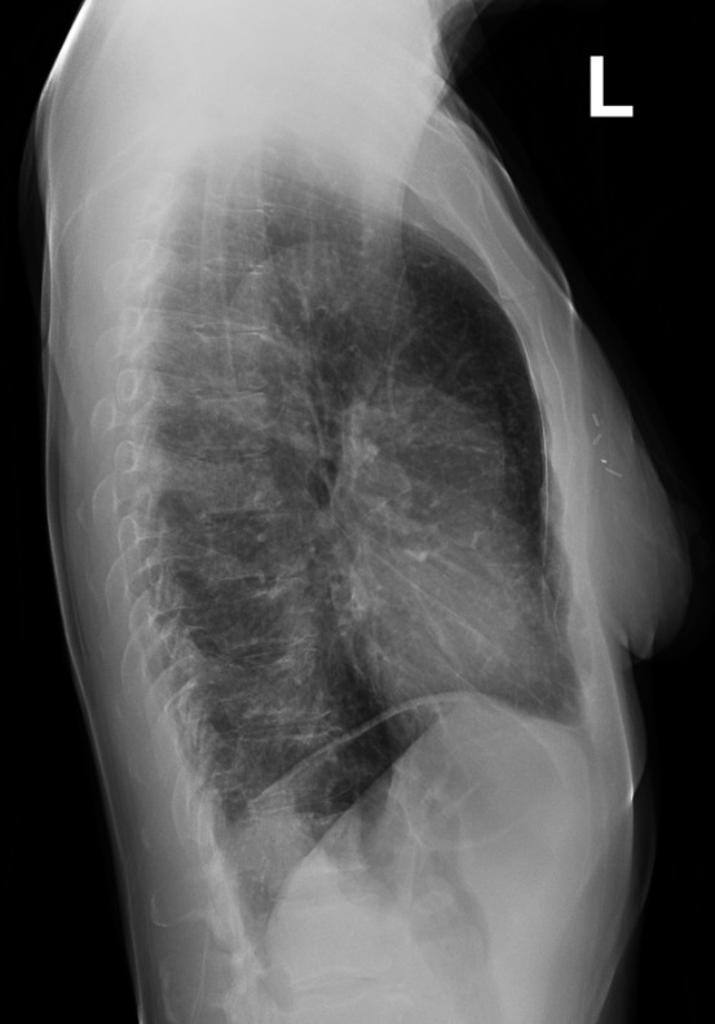cancer: (58, 182, 578, 826)
